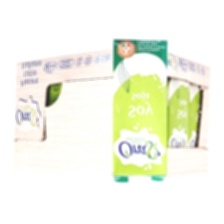carton: (107, 29, 175, 192)
